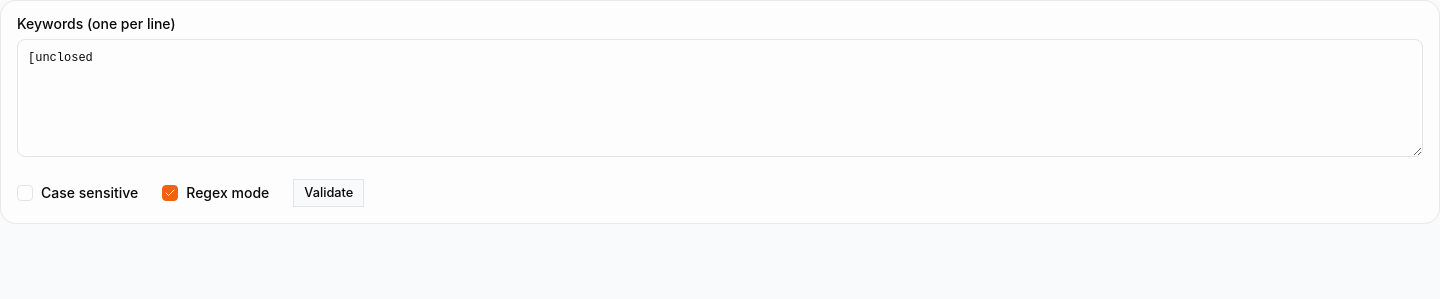
it: <KeywordsEditor /> › shows a per-pattern error when Validate is clicked on an invalid regex
Click the button "Validate".
click(329, 193)  # box [293, 179, 364, 207]
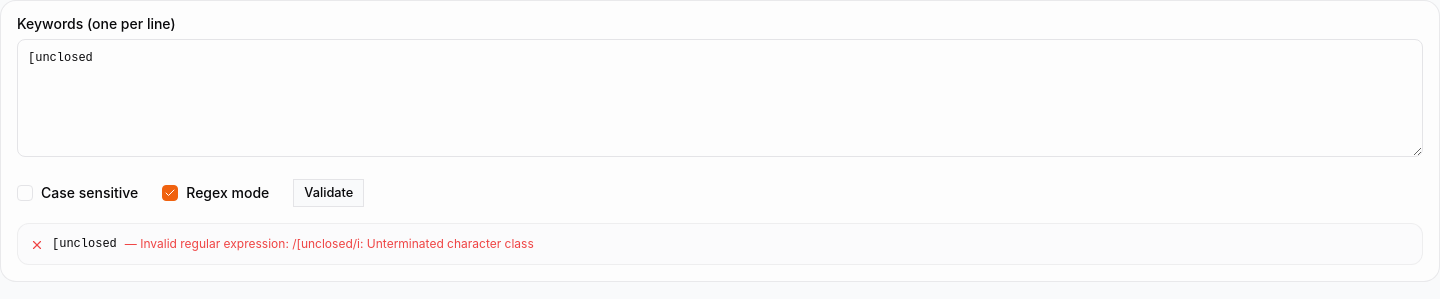
Now the list item "[unclosed" is shown, box [52, 237, 117, 251]
